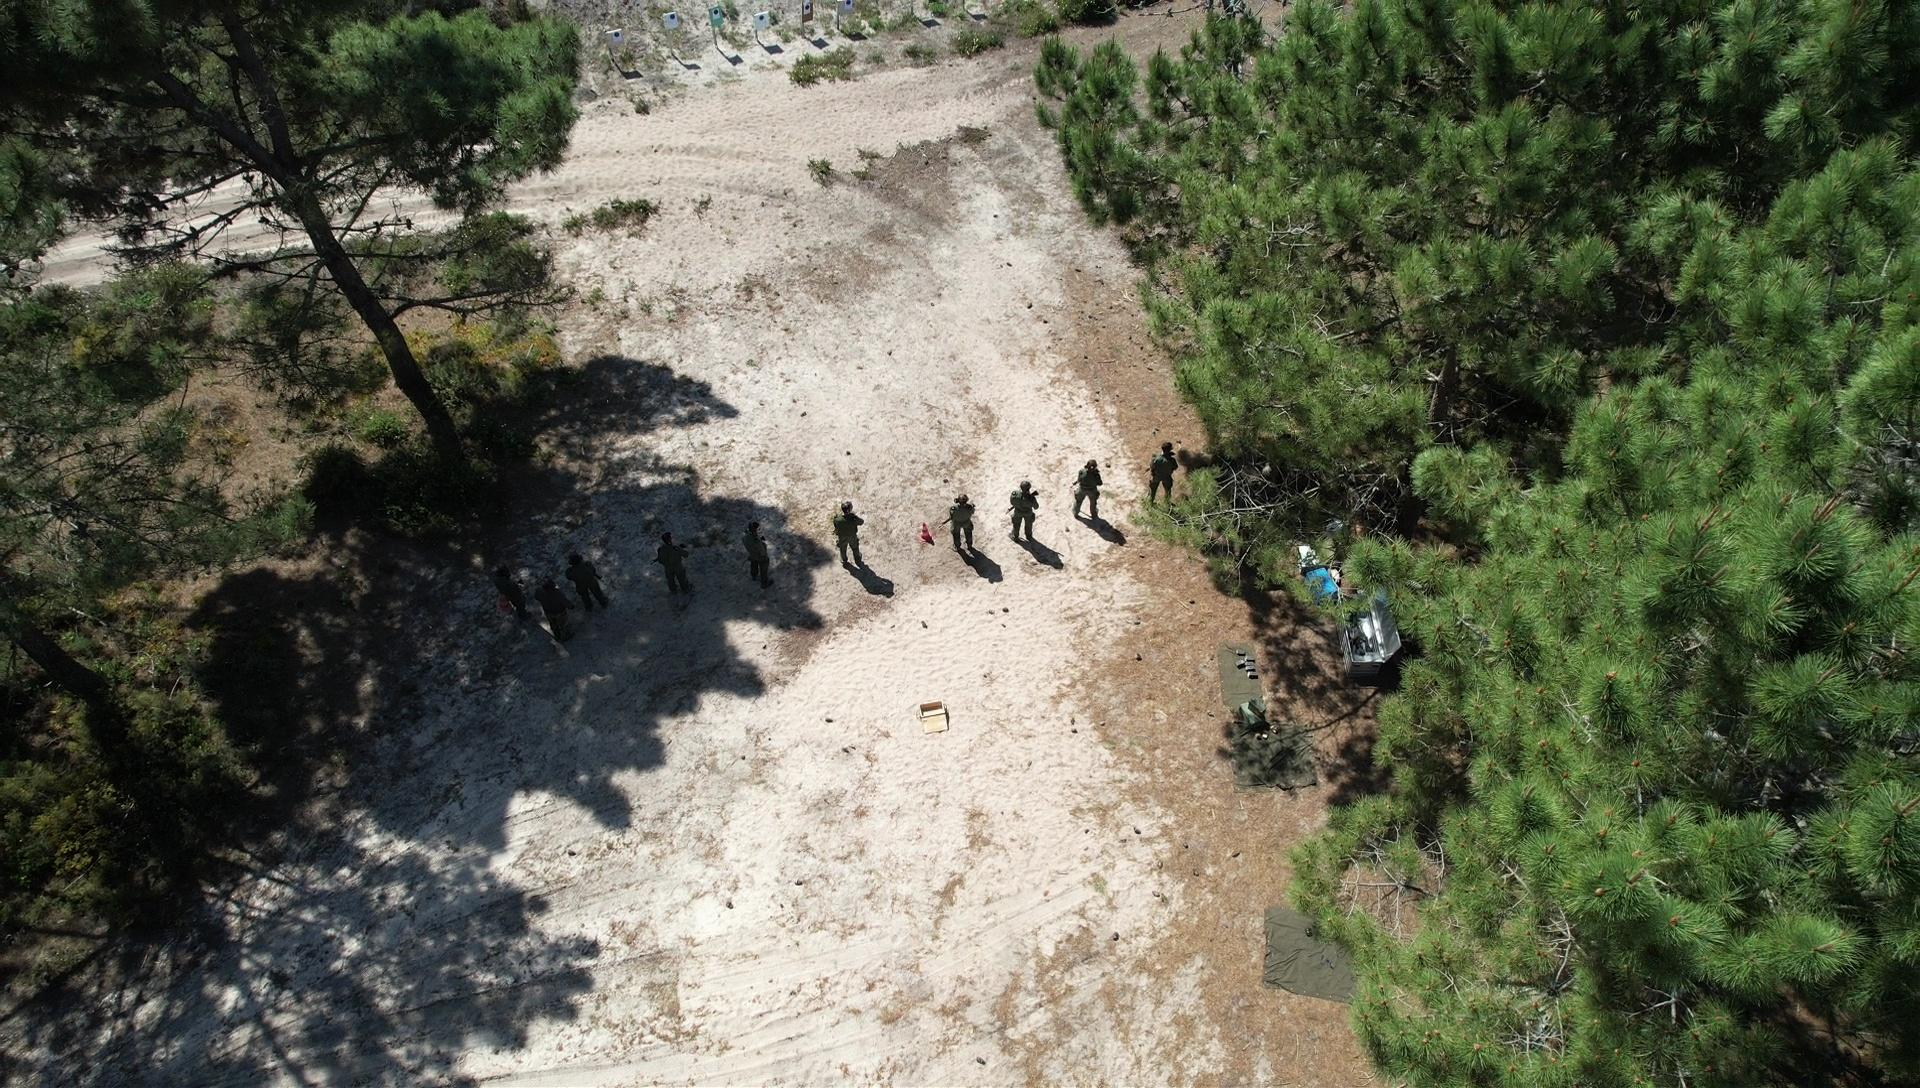Soldier: (818, 497, 877, 579), (735, 510, 789, 600), (1000, 475, 1052, 559), (649, 528, 702, 607), (564, 550, 612, 625), (530, 578, 579, 650), (1145, 434, 1187, 513), (943, 491, 984, 567), (1069, 458, 1106, 531), (489, 562, 534, 621)
